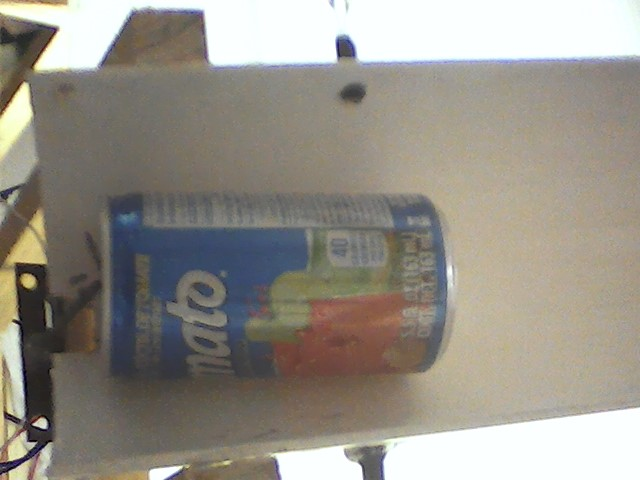lata: (86, 180, 468, 394)
